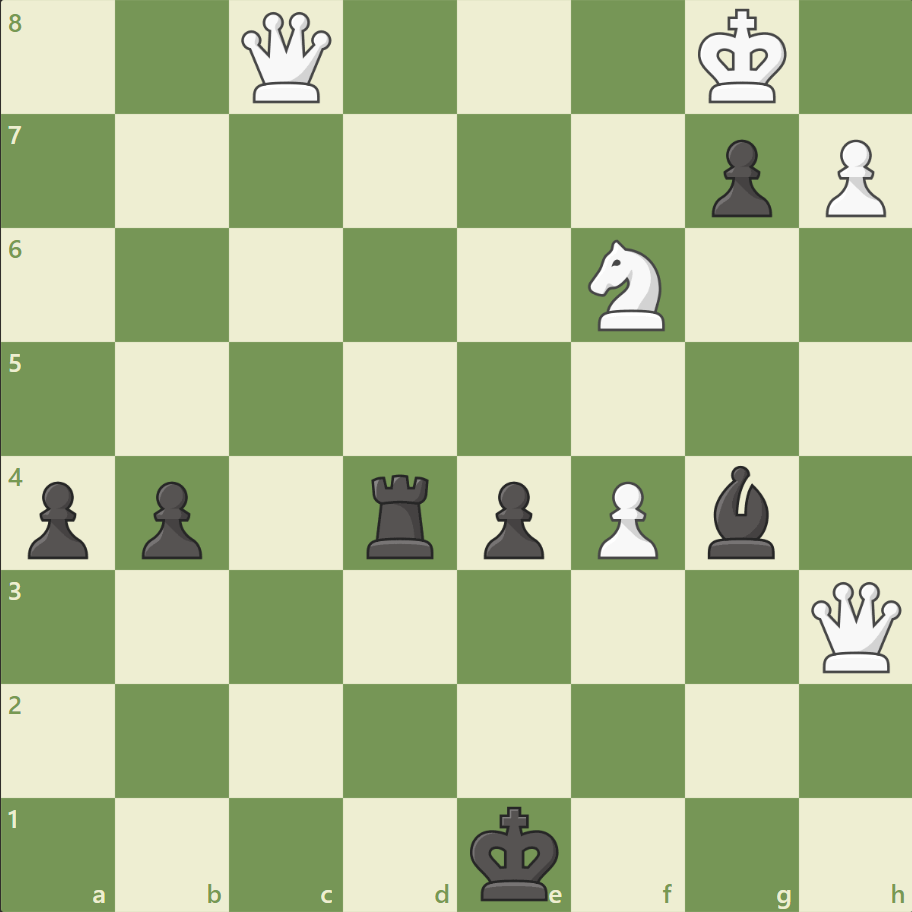K: (692, 4, 792, 112)
N: (579, 234, 676, 337)
P: (815, 132, 889, 223), (588, 473, 662, 564)
Q: (805, 576, 904, 676), (237, 9, 336, 108)
b: (698, 460, 782, 563)
k: (465, 798, 565, 906)
p: (701, 132, 776, 223), (20, 473, 95, 564), (133, 473, 208, 564), (474, 473, 549, 564)
r: (360, 466, 442, 563)
